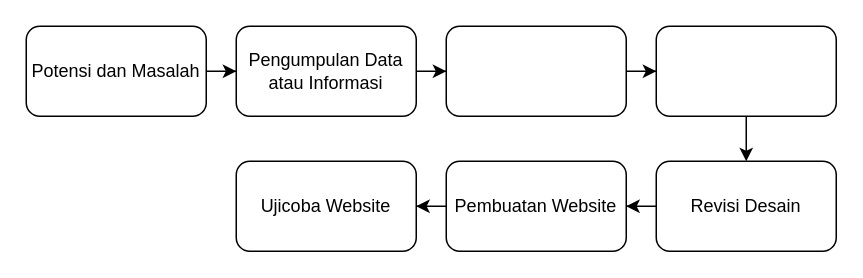
The diagram is 863 pixels wide and 278 high, and some of its shapes have lost their labels. The centre of each missing label's shape, as x and y in pixels:
"Desain Website" belongs at (535,70).
"Validasi Desain" belongs at (745,70).
